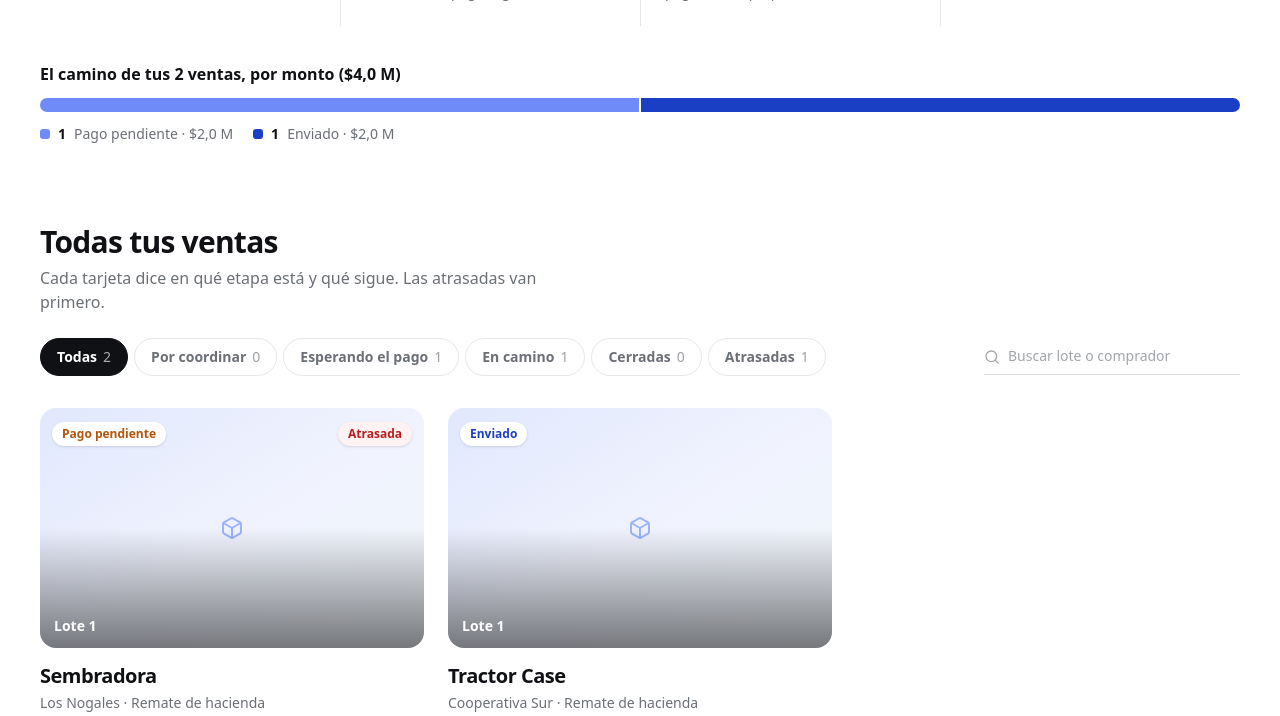
Test: VentasAdjudicadasPage › el filtro "Atrasadas" deja solo las atrasadas y la búsqueda filtra por comprador
This screenshot has width=1280, height=716.
(page scrolled)
Expected: the heading "Todas tus ventas" is shown, [40,221,278,262]
Click the button "Atrasadas1".
click(767, 357)  # box [708,338,826,376]
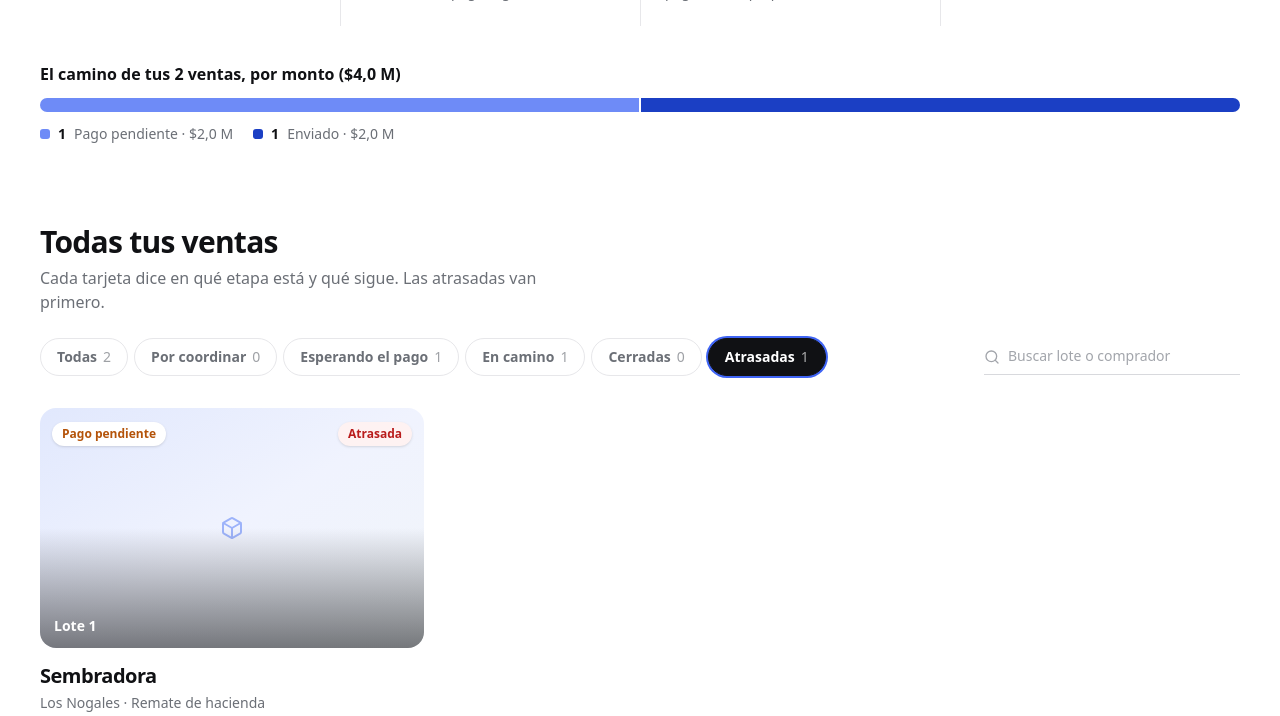
Expected: the heading "Sembradora" is shown, [40,662,157,689]
Result: the heading "Tractor Case" is gone
Click the button "Todas2".
click(84, 357)  # box [40,338,128,376]
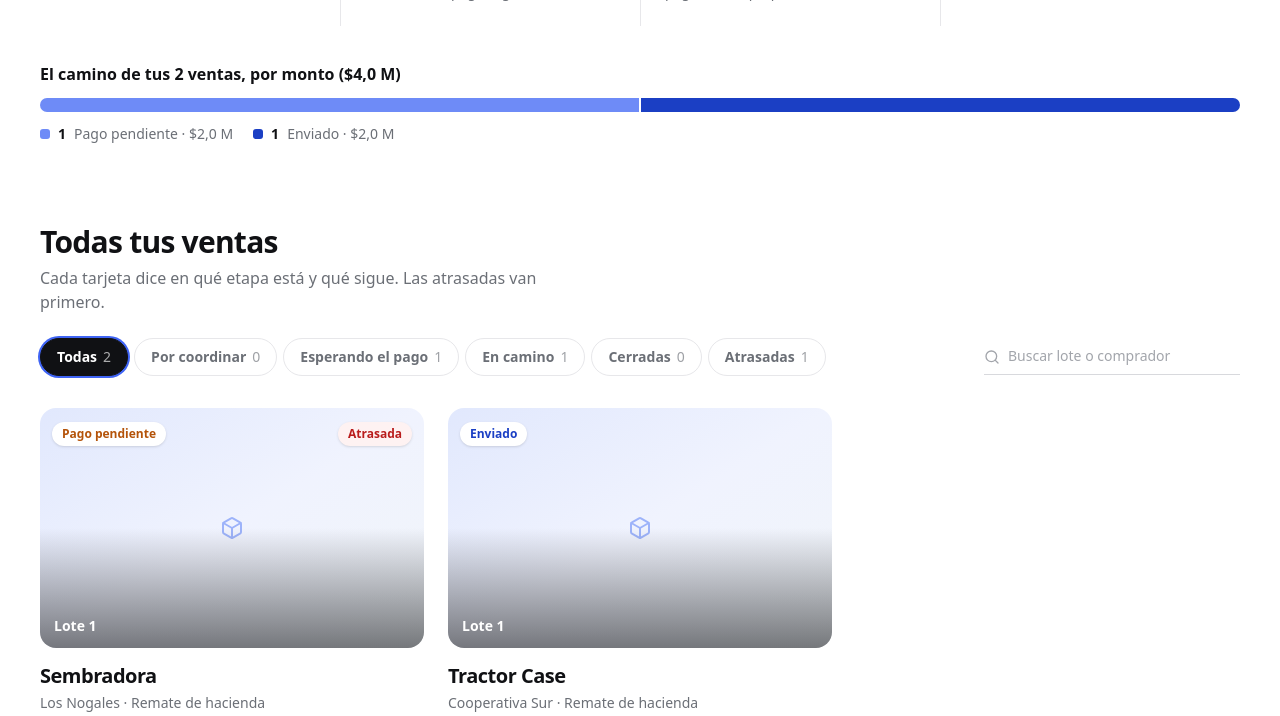
Type "cooperativa" into the search field named "Buscar venta".
click(1112, 357); type("cooperativa")  # box [984,338,1240,375]
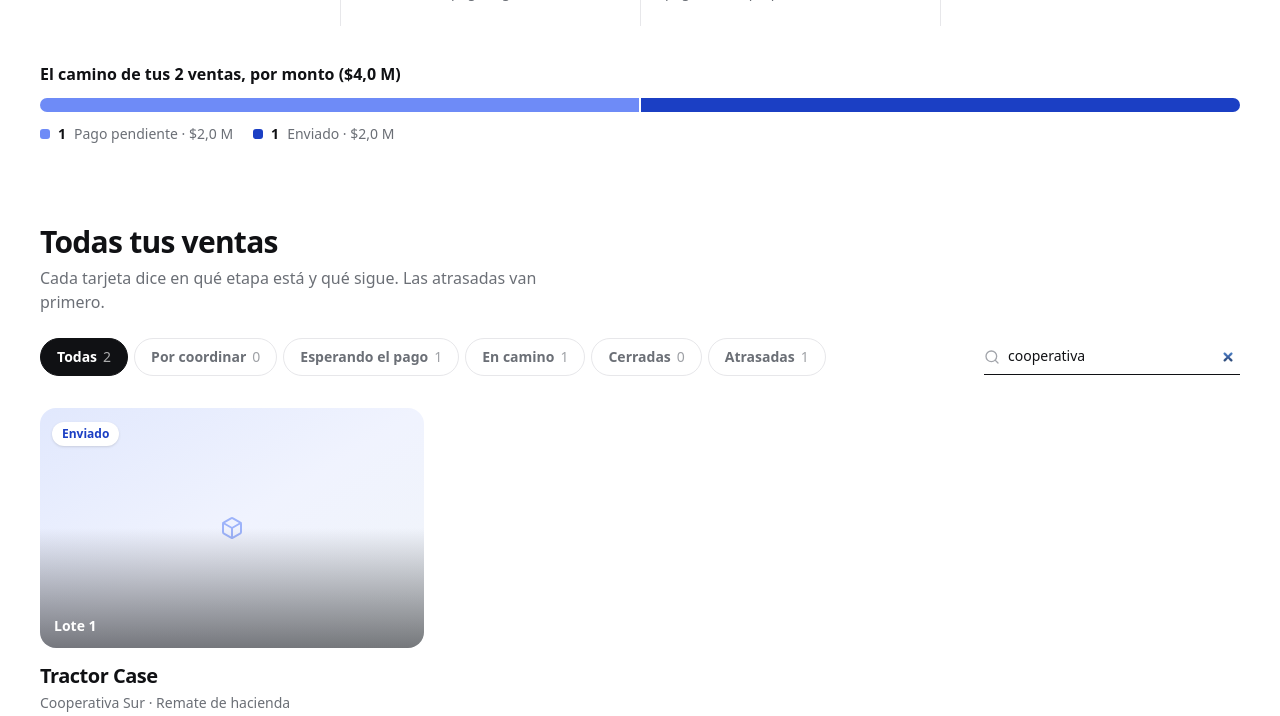
Result: the heading "Tractor Case" is shown at [40,662,158,689]
Result: the heading "Sembradora" is gone
